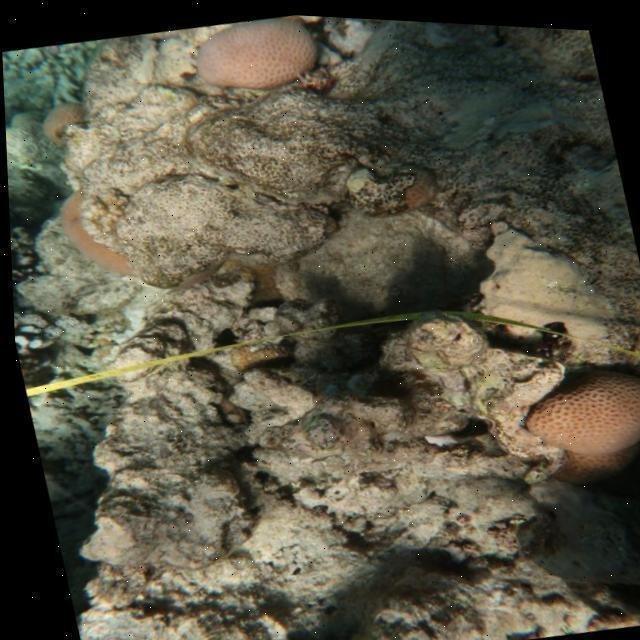Healthy Coral: (504, 336, 640, 466), (176, 8, 327, 102), (44, 182, 134, 288), (28, 95, 92, 153)
